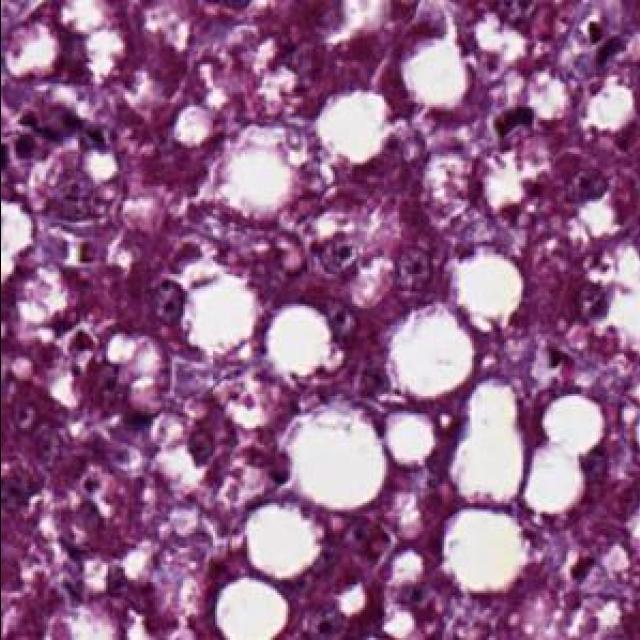steatosis: (290, 409, 385, 509), (524, 395, 604, 513), (451, 381, 522, 501), (390, 305, 474, 397), (444, 510, 528, 592), (454, 251, 522, 331), (246, 505, 320, 578), (268, 305, 331, 376), (216, 578, 286, 639), (388, 414, 435, 464)
